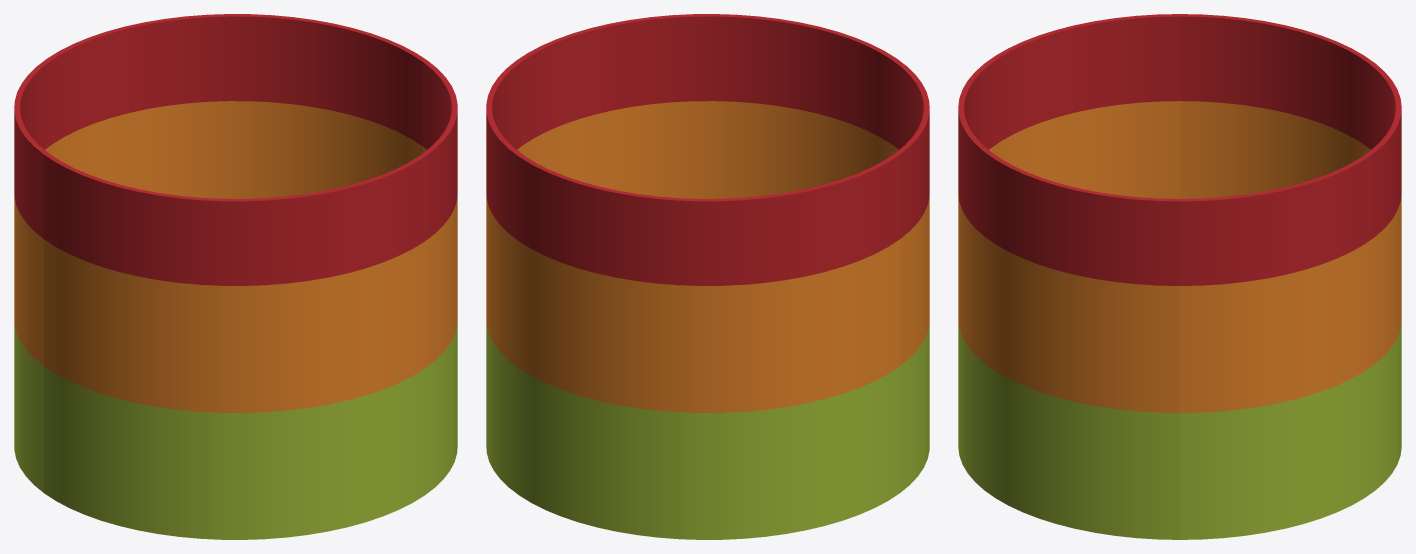
The model's file is spray_dryer_temperature.glb.
The picture shows the model from 3 angles, left to right: view 1: azimuth 30°, elevation 25°; view 2: azimuth 150°, elevation 25°; view 3: azimuth 270°, elevation 25°; orthographic projection.
Visible parts, largest first — view 1: temperature__front, temperature__back; view 2: temperature__back, temperature__front; view 3: temperature__back, temperature__front.
Part boxes in pixels (x1,y1,x2,y2): temperature__front: [44, 61, 457, 539]; temperature__back: [14, 14, 427, 492]; temperature__back: [486, 61, 899, 539]; temperature__front: [516, 14, 929, 492]; temperature__back: [1180, 14, 1401, 539]; temperature__front: [958, 14, 1179, 539].
Bounding box in the file's own units: 1.9 × 1.6 × 1.9.
